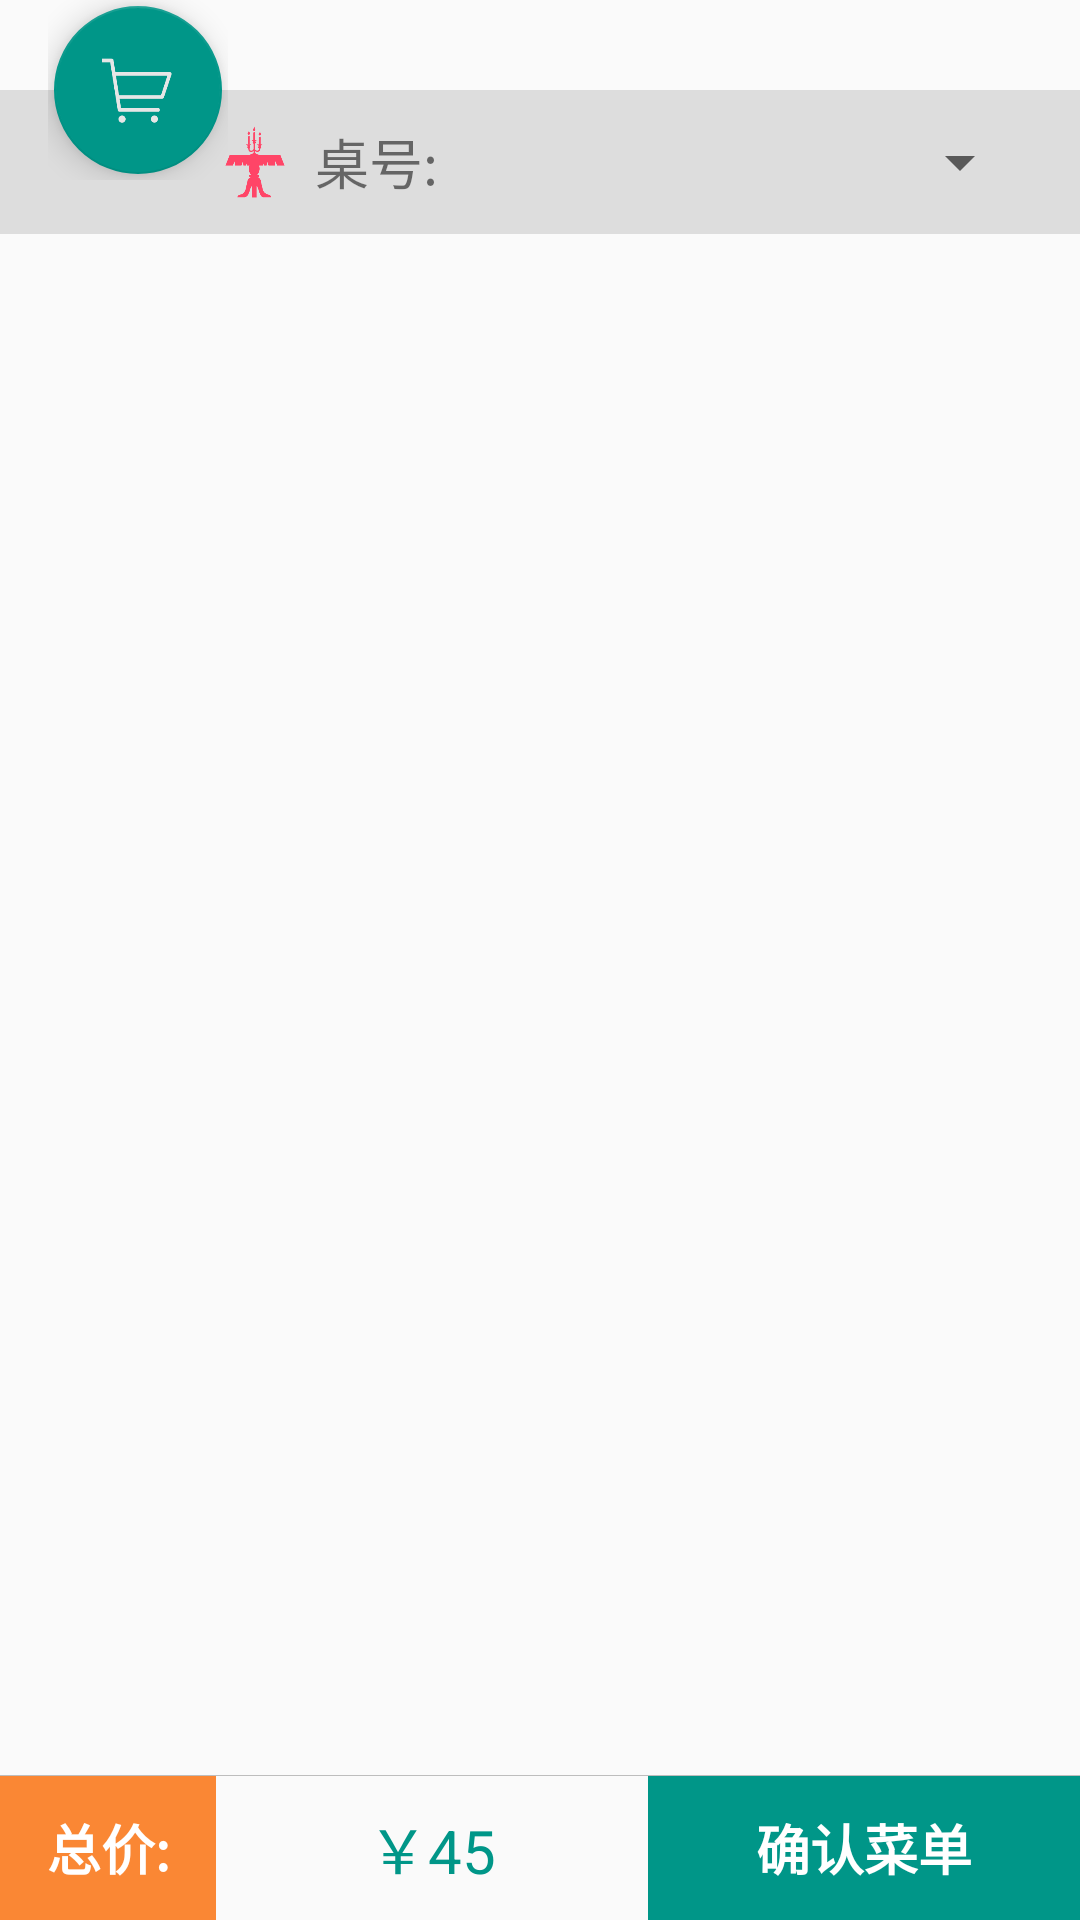

Where to tap for icons on this 1080*1920 app screen, as [x,y]:
shopping: [138,90]
